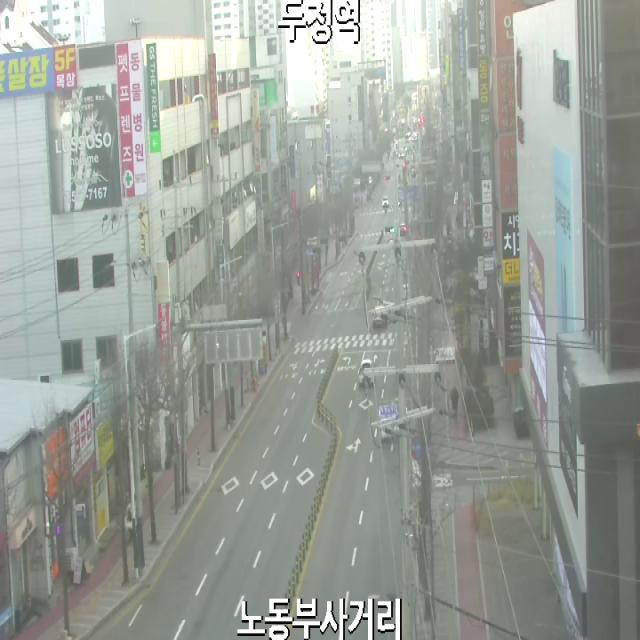Car: (358, 358, 375, 386), (372, 306, 386, 329), (382, 196, 389, 208)
